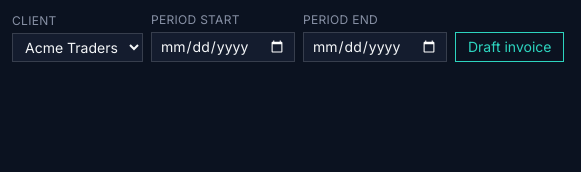
Test: InvoiceForm › shows the server's message when drafting conflicts
In the date field labelled "Period start": (223, 47) [151, 32, 295, 62], type "2026-08-01"
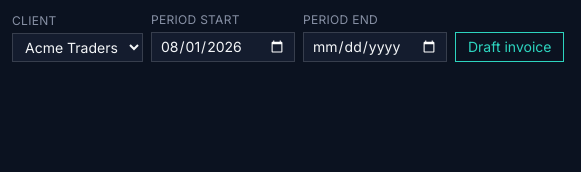
In the date field labelled "Period end": (375, 47) [303, 32, 447, 62], type "2026-08-31"
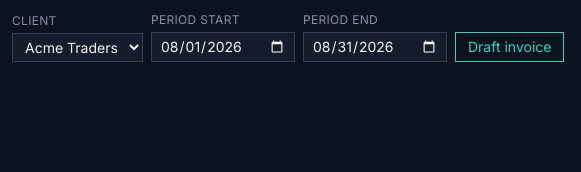
Click the button "Draft invoice": (510, 47) [455, 32, 564, 62]
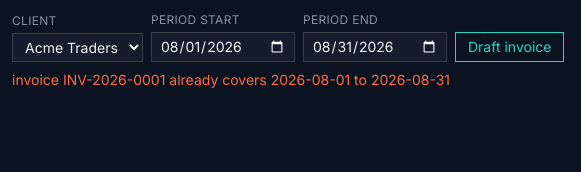
Expected: the message shows "already covers", [12, 71, 450, 88]
